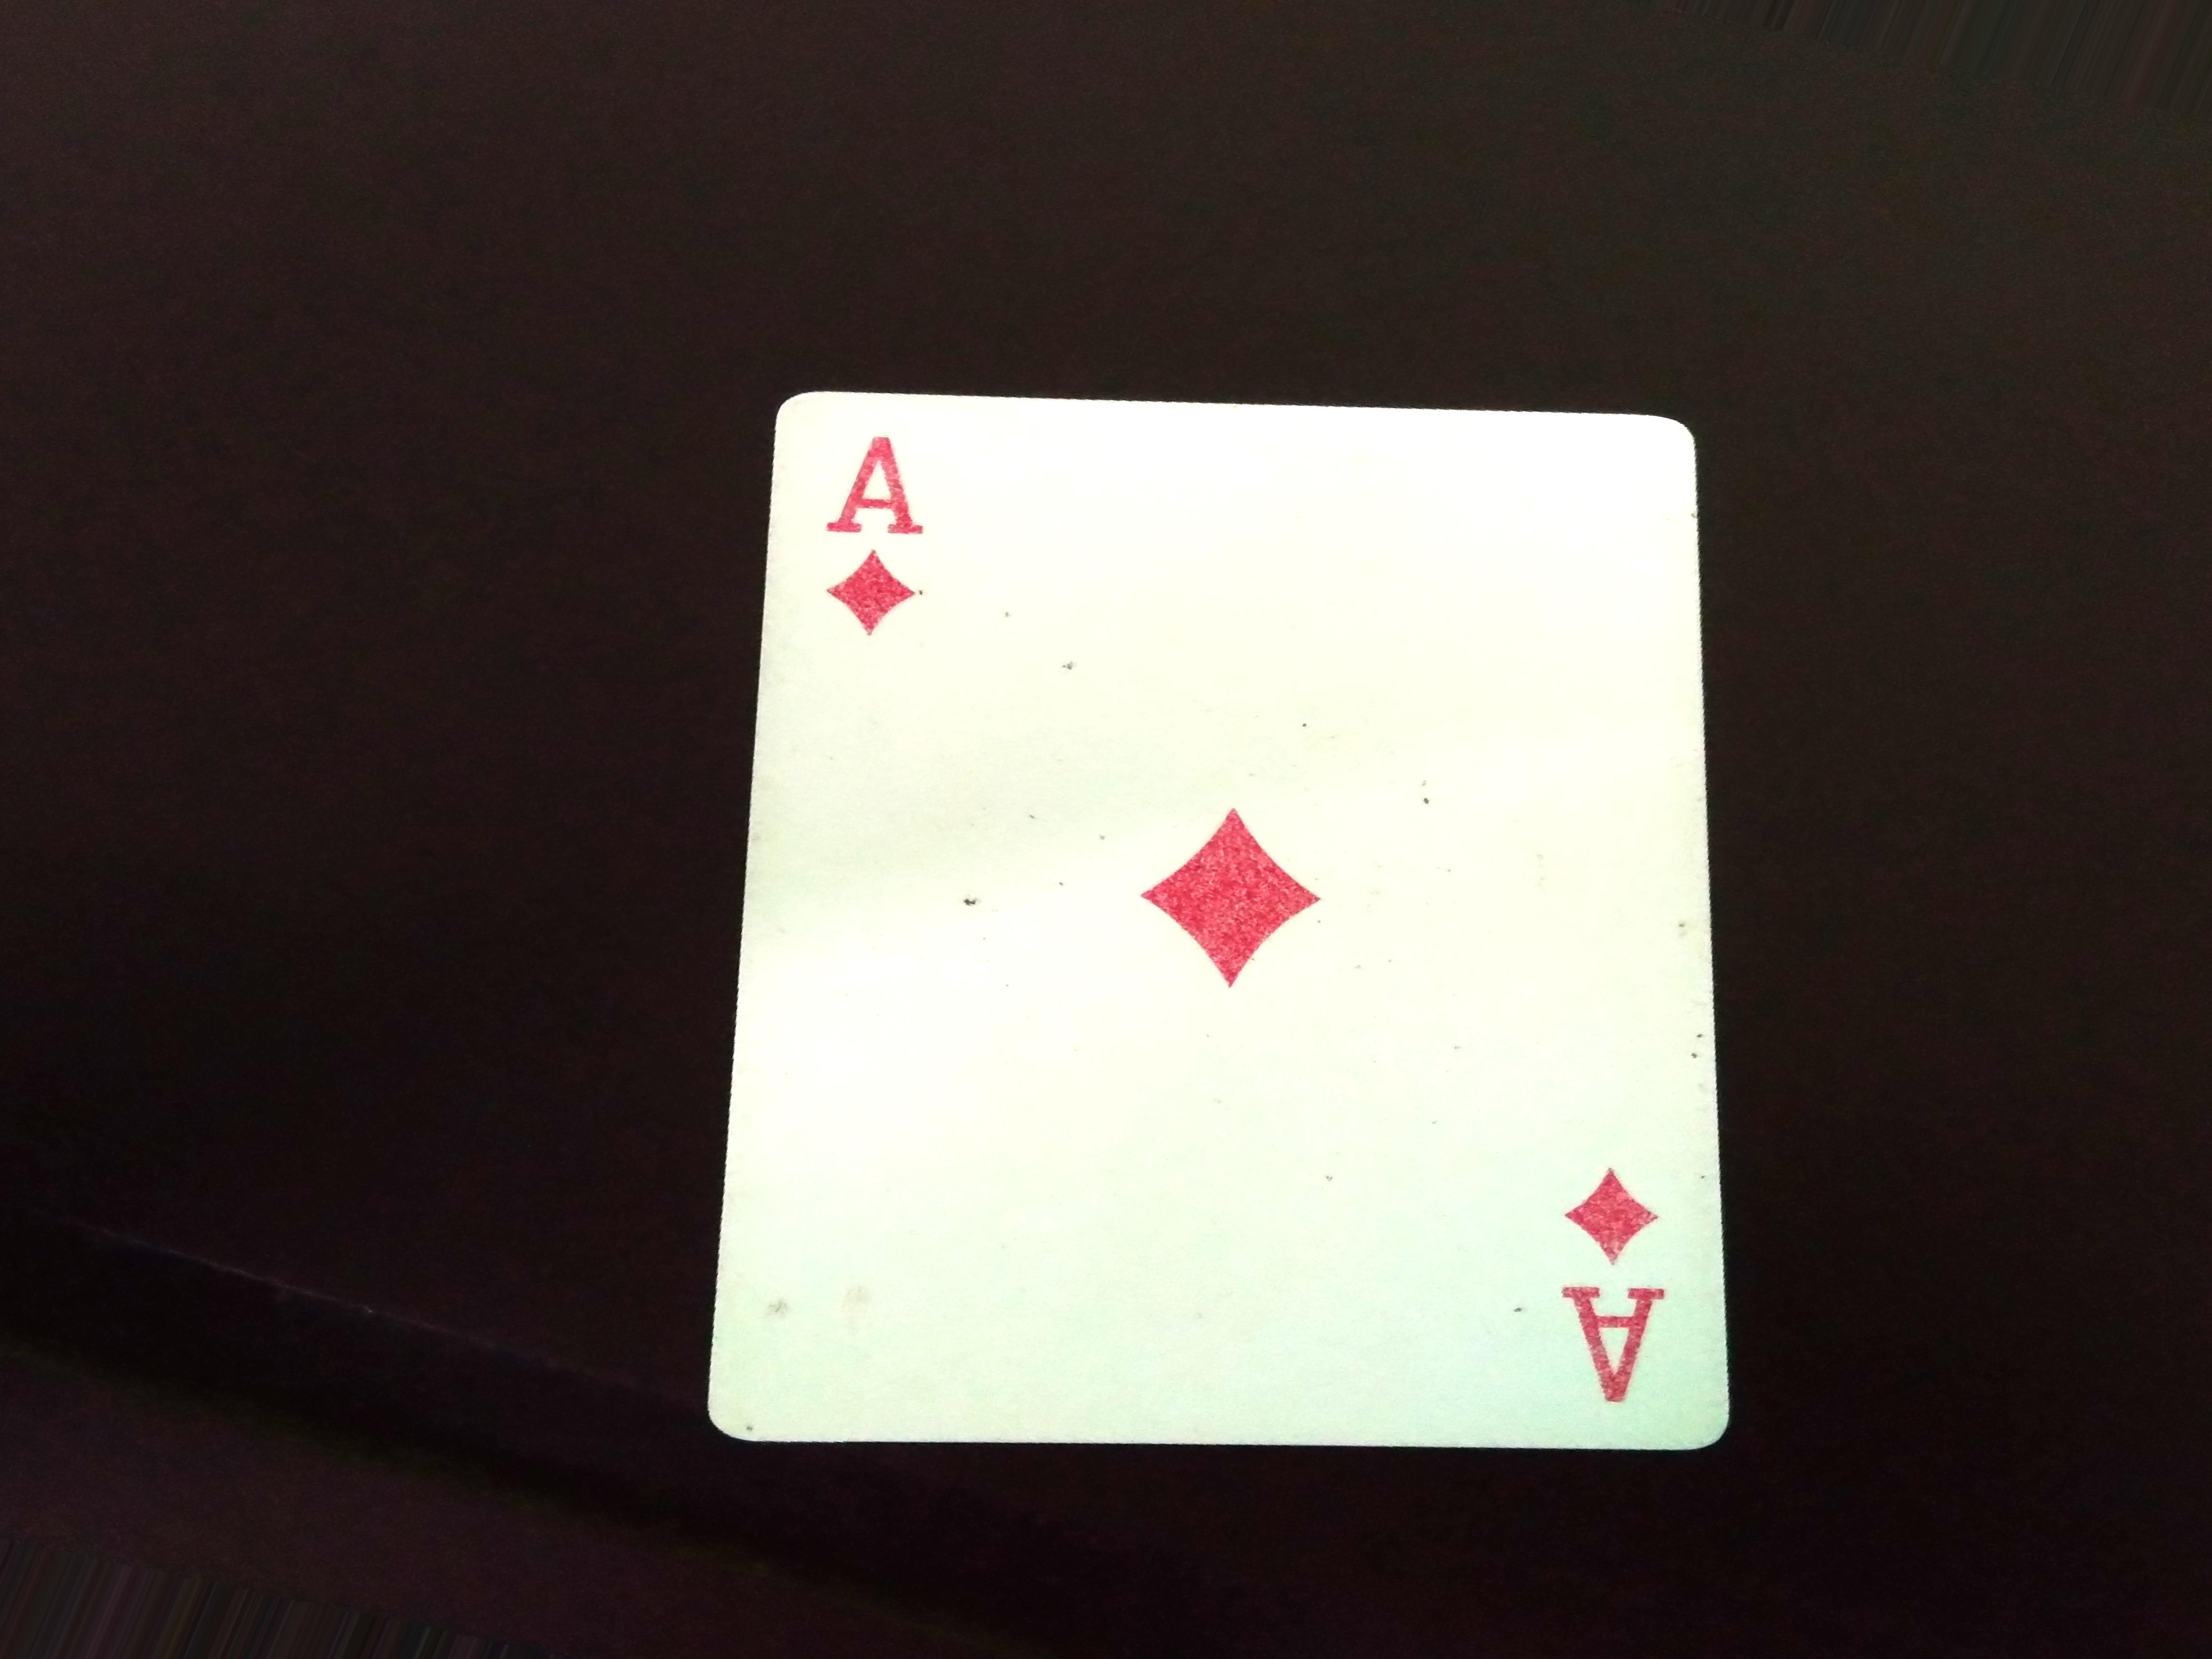AD: (1550, 1166, 1667, 1424)
